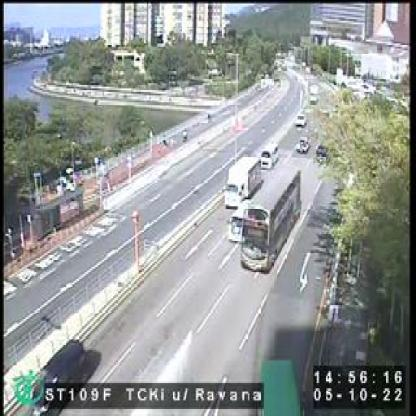Bus: (239, 165, 298, 272)
Car: (30, 340, 83, 412), (228, 198, 249, 238), (258, 144, 276, 166), (295, 134, 311, 152), (295, 112, 306, 124)
Truck: (222, 154, 259, 205)
